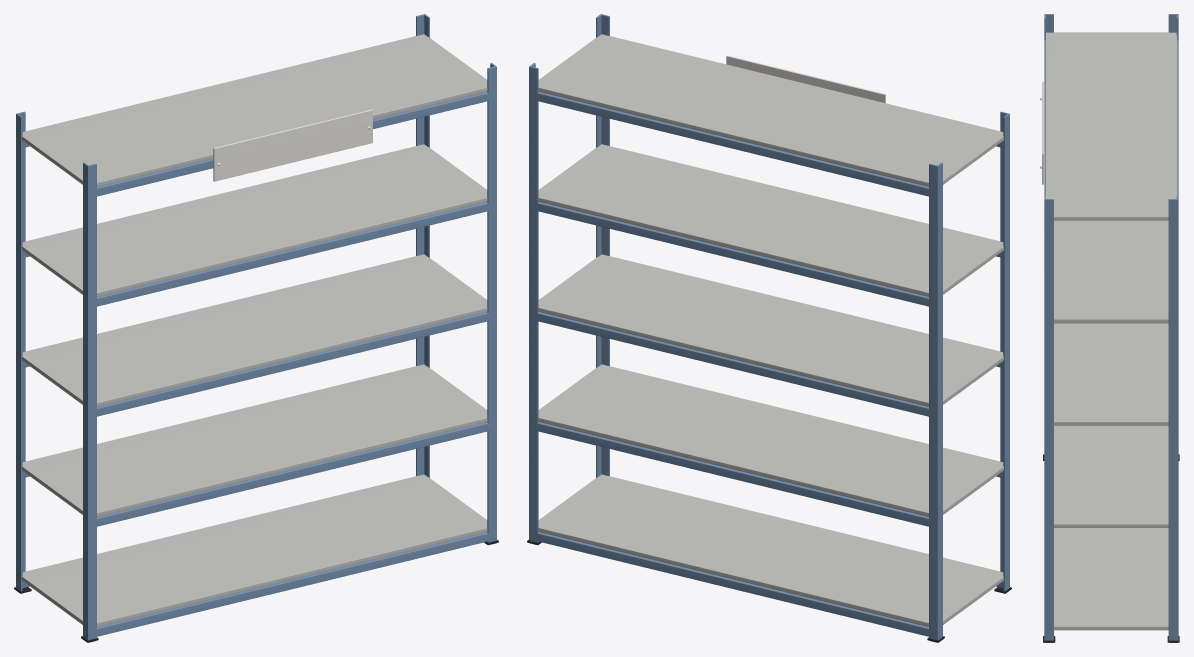
The model's file is industrial.workshop.shelf_wide.glb.
3 renders of one model, left to right at view 1: azimuth 30°, elevation 25°; view 2: azimuth 150°, elevation 25°; view 3: azimuth 270°, elevation 25°, orthographic. The views are drawn at different scales.
Visible parts, largest first — view 1: main__paint_ccc, main__paint_79b, main__paint_eee; view 2: main__paint_ccc, main__paint_79b, main__paint_eee; view 3: main__paint_ccc, main__paint_79b.
Part boxes in pixels (box(x1,y1,x2,y2)): main__paint_ccc: box(22, 34, 487, 626); main__paint_79b: box(16, 14, 496, 642); main__paint_eee: box(213, 109, 372, 181); main__paint_ccc: box(538, 34, 1003, 626); main__paint_79b: box(529, 14, 1009, 642); main__paint_eee: box(726, 55, 885, 103); main__paint_ccc: box(1045, 32, 1177, 630); main__paint_79b: box(1044, 14, 1178, 642).
Size of the model in its own units: 1.81 by 2 by 0.571.
